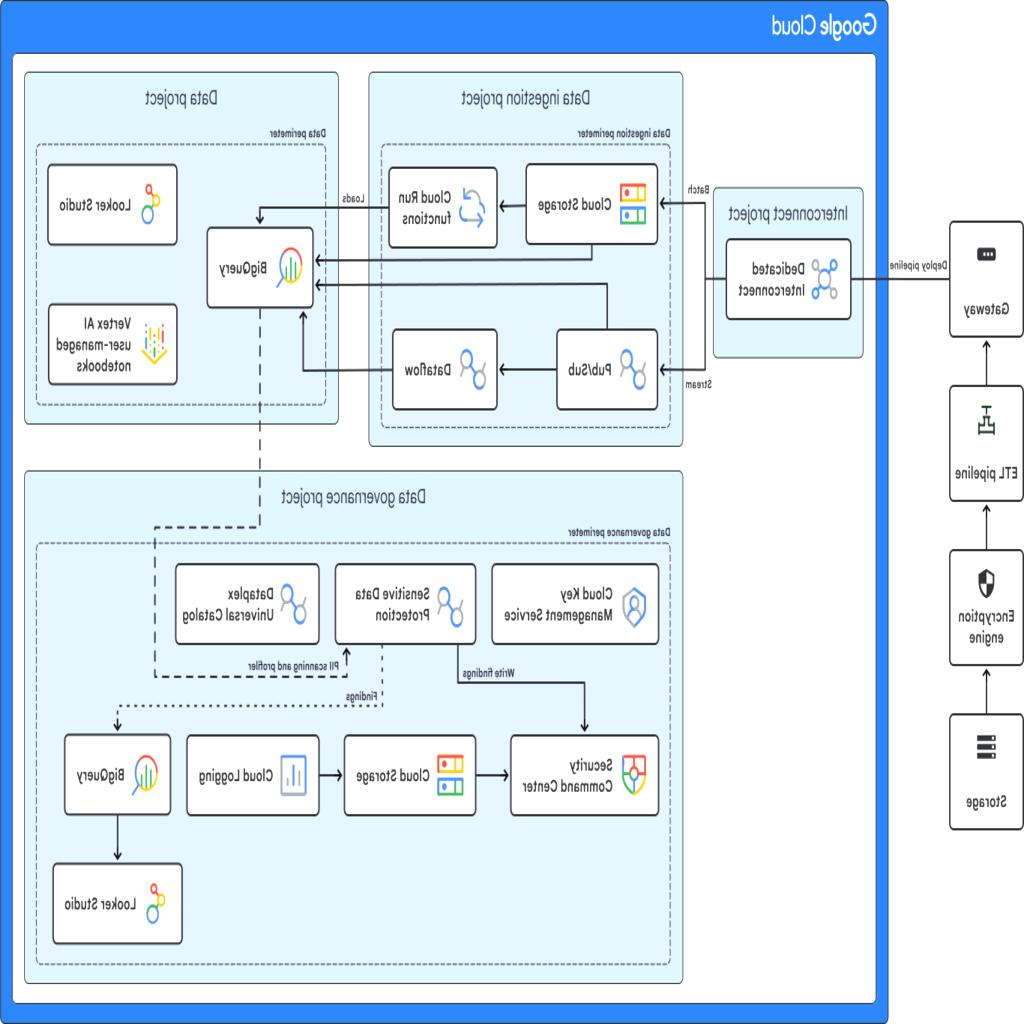api_gateway: (950, 221, 1024, 338), (557, 326, 657, 410)
compute: (176, 562, 320, 646), (188, 731, 320, 815), (54, 861, 184, 945), (48, 163, 177, 247), (48, 302, 177, 386), (390, 163, 501, 247), (392, 326, 498, 410), (950, 387, 1024, 504)
data_flow: (316, 282, 608, 287), (315, 258, 594, 262), (458, 661, 586, 666), (258, 417, 262, 562), (258, 350, 262, 490), (257, 206, 390, 210), (872, 277, 950, 282), (301, 340, 385, 344), (984, 666, 990, 716), (498, 366, 557, 371), (984, 338, 990, 387), (984, 503, 990, 552), (664, 202, 710, 208), (116, 815, 122, 860), (664, 366, 710, 371), (483, 770, 512, 776), (500, 202, 528, 208), (320, 770, 346, 776), (686, 277, 711, 282)
database_storage: (346, 731, 477, 815), (528, 163, 658, 247), (54, 731, 171, 815), (212, 226, 325, 310), (950, 714, 1024, 832)
network_security: (492, 562, 658, 646), (512, 731, 659, 815), (336, 562, 477, 646), (727, 238, 852, 322), (950, 551, 1024, 668)
trust_boundary: (10, 18, 880, 1006), (24, 469, 684, 981), (36, 537, 672, 962), (367, 74, 686, 442), (24, 64, 341, 417), (380, 144, 673, 426), (36, 146, 329, 404), (714, 187, 864, 356)
